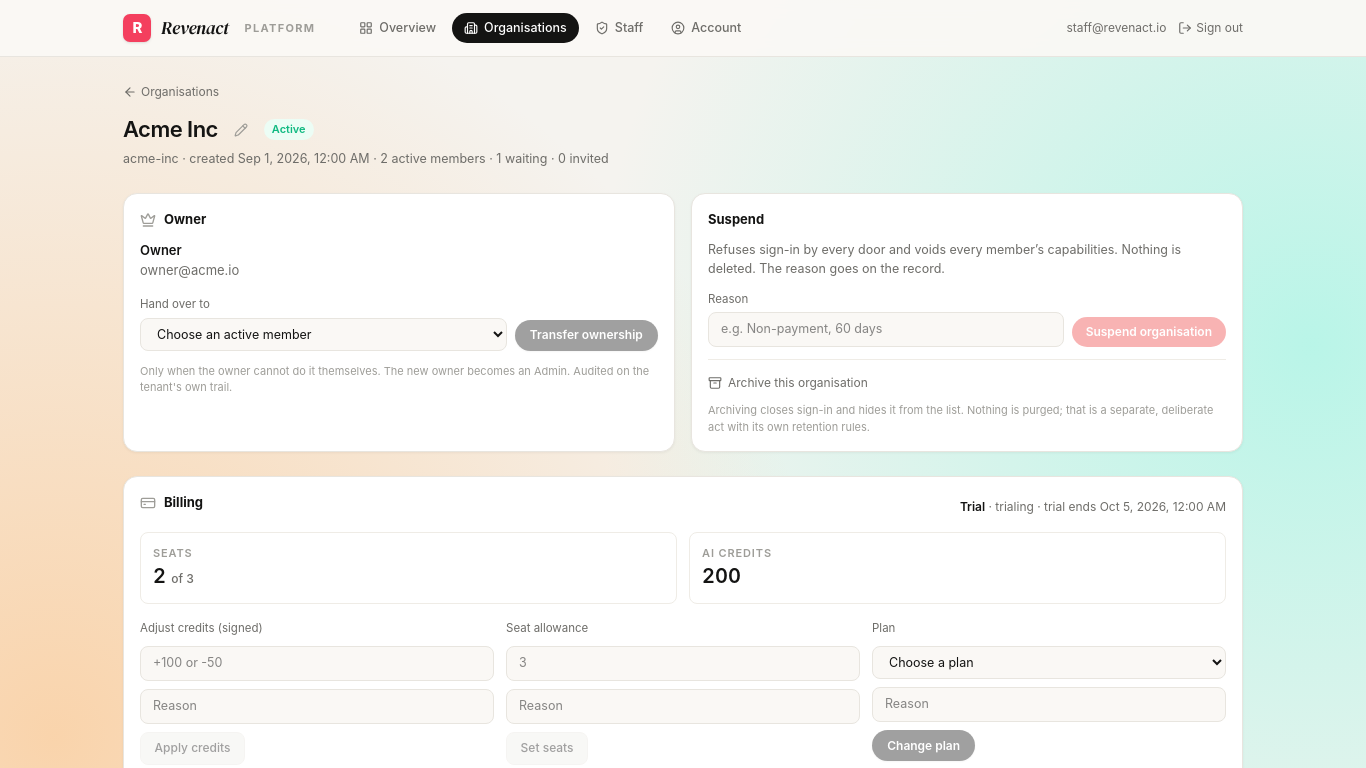
Platform portal › renames an organisation in place
Click the button named "Rename organisation" at (241, 130), box [230,118,252,140]
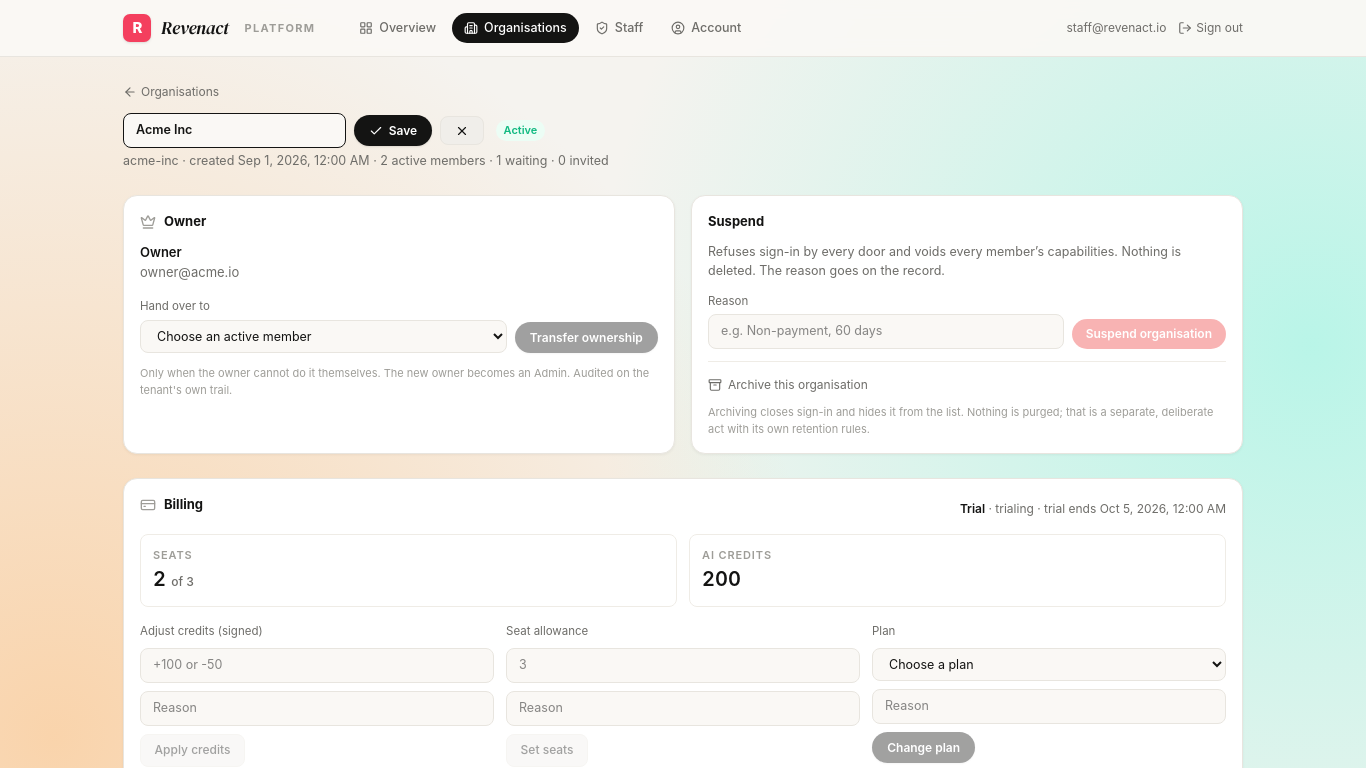
Replace the text in the field named "Organisation name" with "Acme Corporation" at (234, 131), box [123,113,346,148]
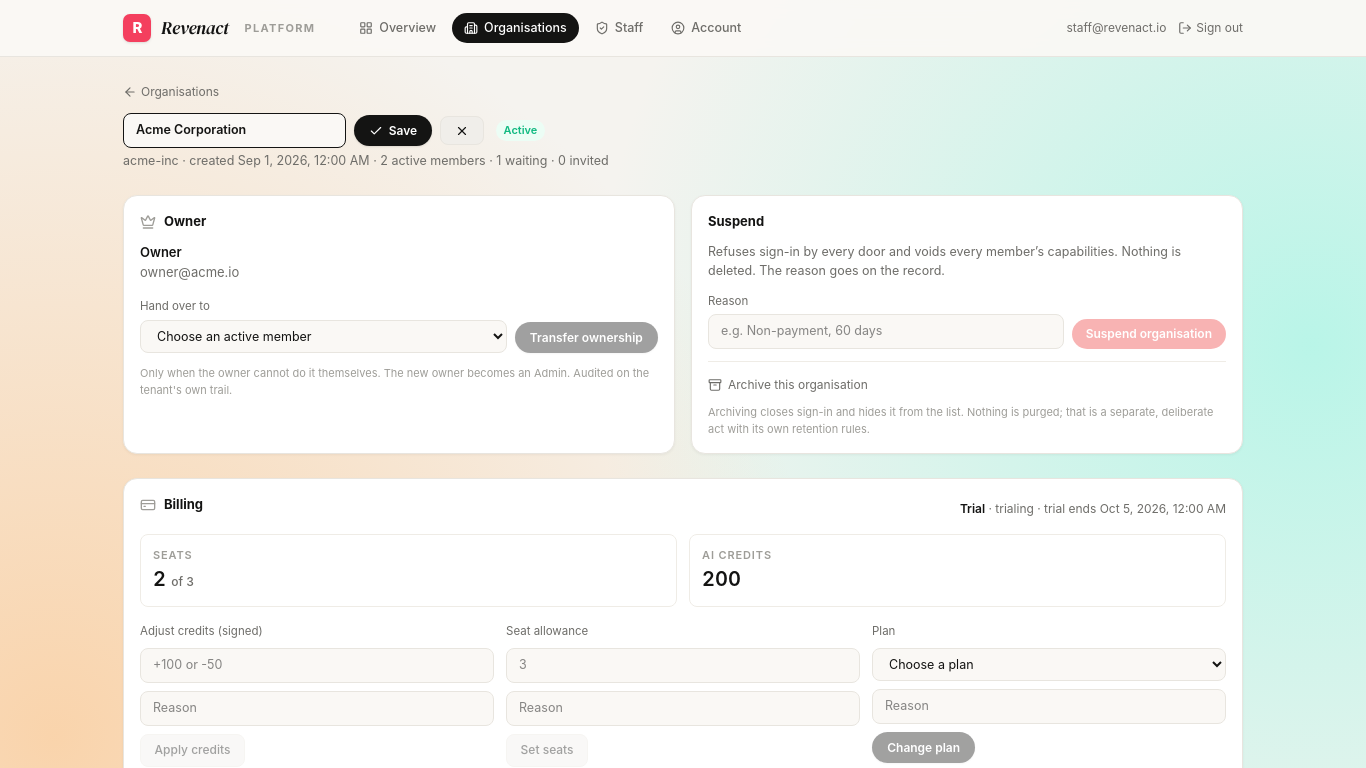
Click the button with aria-label "Save name" at (393, 131), box [354,115,432,146]
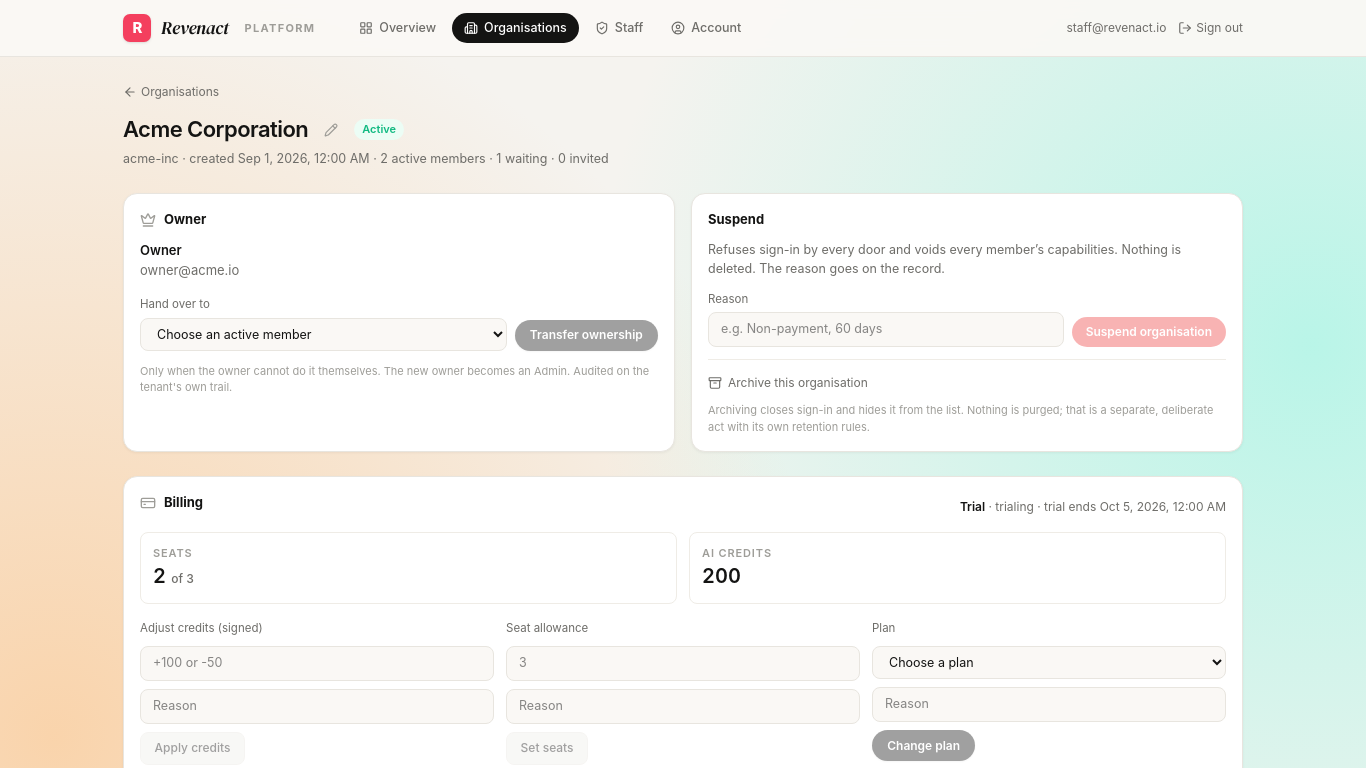
Expected: the heading "Acme Corporation" is shown, [123,113,308,146]
